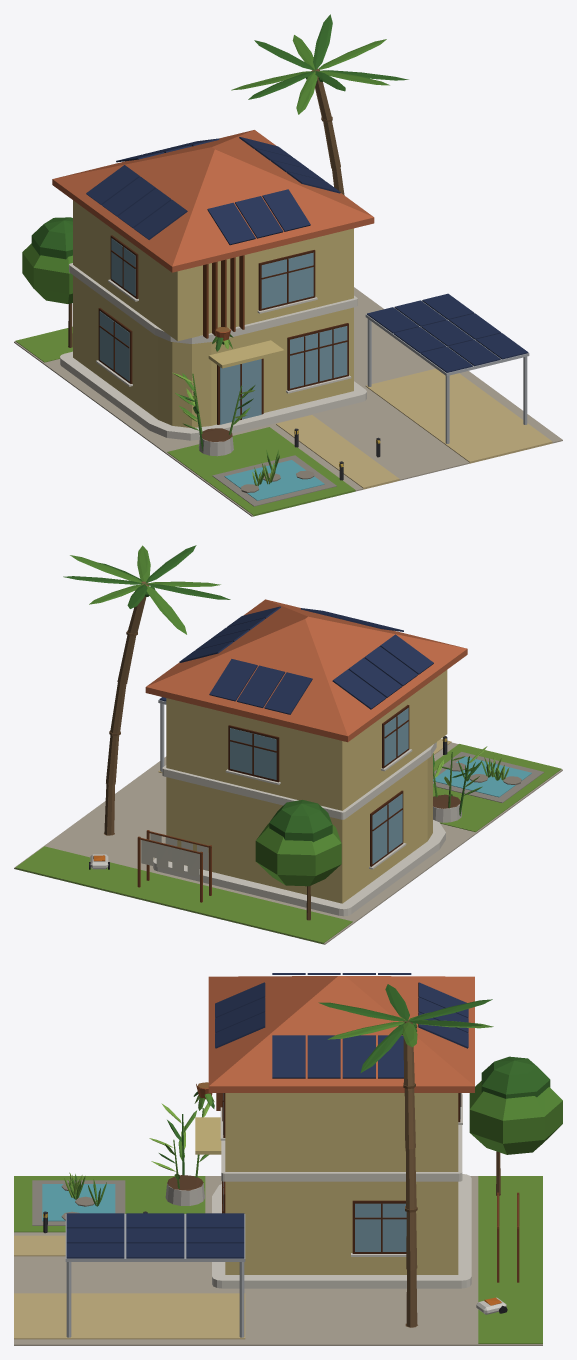
Rendered from house12_1.glb.
The picture shows the model from 3 angles, top to bottom: view 1: azimuth 30°, elevation 25°; view 2: azimuth 150°, elevation 25°; view 3: azimuth 270°, elevation 25°; orthographic projection. The views are drawn at different scales.
Visible parts, largest first — view 1: body; view 2: body; view 3: body.
Boxes of the visible parts, box(x1,y1,x2,y2) form: body: box(14, 14, 562, 516); body: box(14, 545, 562, 944); body: box(14, 973, 562, 1345).
Bounding box in the file's own units: 12.13 × 10.28 × 16.5.
